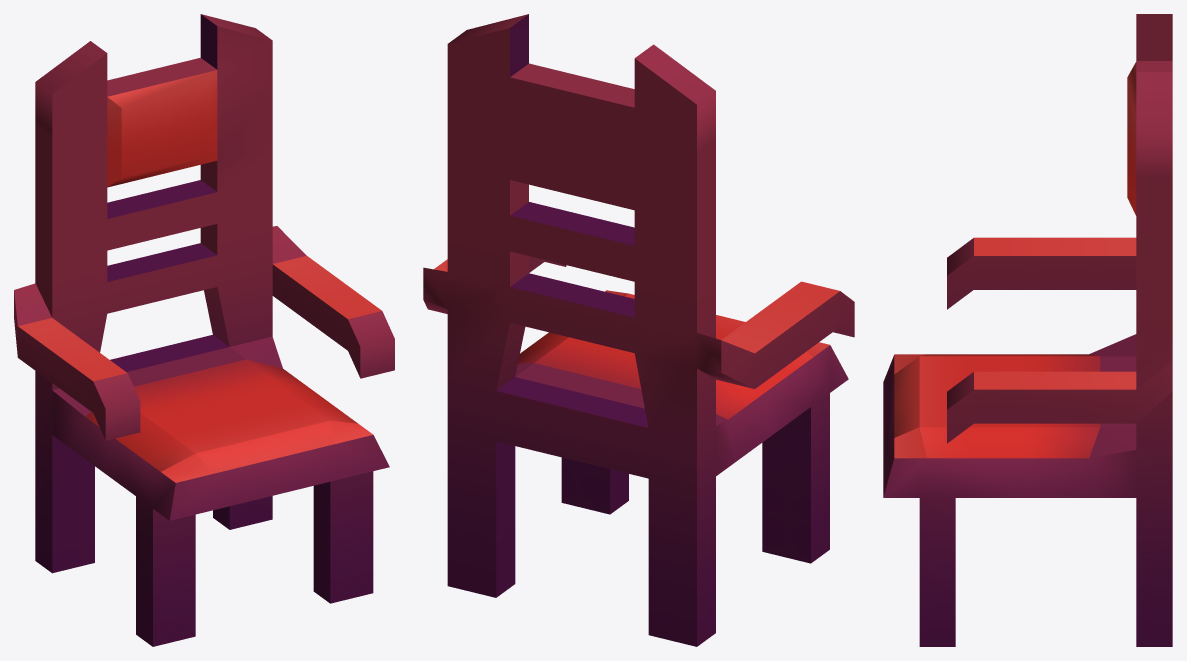
The model's file is propChair_mesh.fbx.
The picture shows the model from 3 angles, left to right: view 1: azimuth 30°, elevation 25°; view 2: azimuth 150°, elevation 25°; view 3: azimuth 270°, elevation 25°; orthographic projection. The views are drawn at different scales.
Parts seen in each view (by area): view 1: chair; view 2: chair; view 3: chair.
Boxes of the visible parts, bbox=[...] form: chair: bbox=[14, 14, 394, 646]; chair: bbox=[423, 14, 854, 646]; chair: bbox=[883, 14, 1172, 646].
Bounding box in the file's own units: 0.5559 × 0.9311 × 0.4469.
